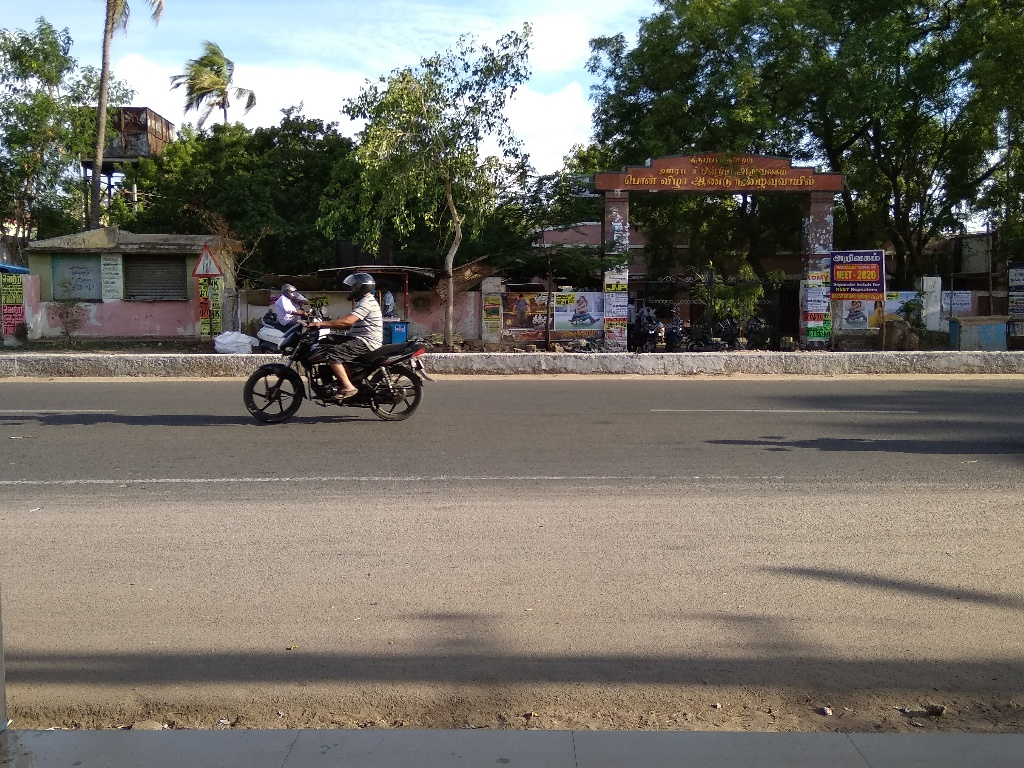biker: (233, 215, 442, 432)
helmet: (339, 263, 382, 306), (273, 274, 304, 305)
